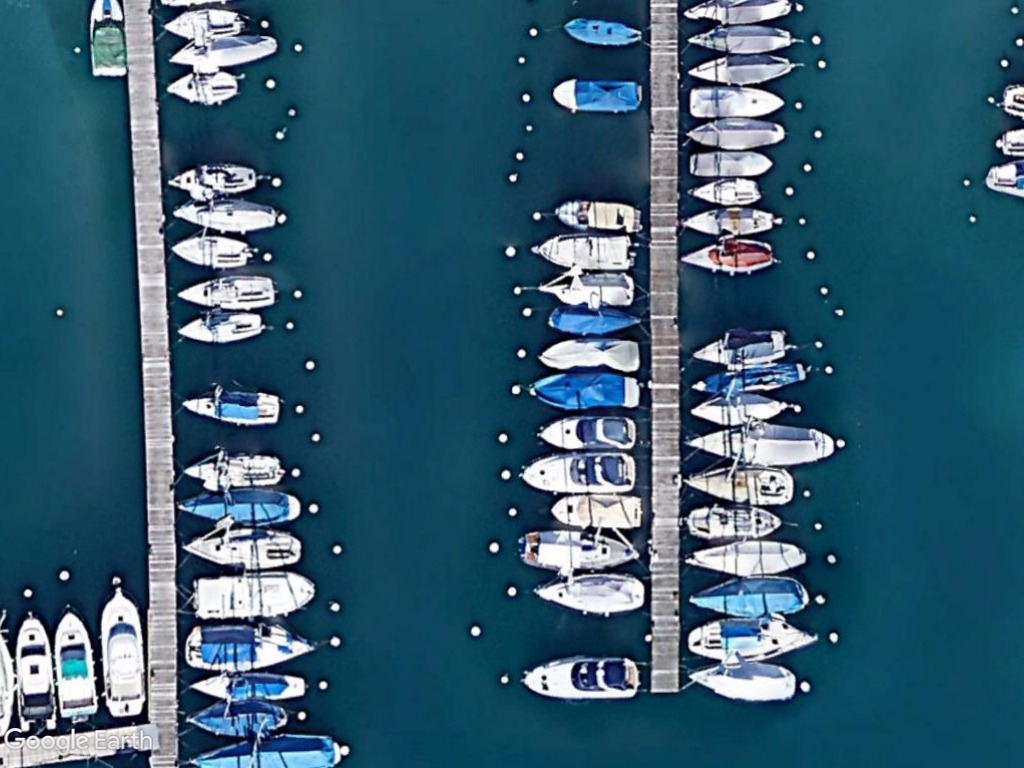boat: (92, 581, 152, 723), (182, 614, 316, 672), (182, 569, 321, 624), (686, 417, 841, 466), (516, 650, 646, 704), (677, 617, 823, 665), (510, 524, 646, 575), (178, 521, 308, 572), (7, 608, 58, 737), (680, 533, 815, 581), (686, 572, 813, 623), (47, 602, 98, 727), (525, 447, 642, 499), (176, 481, 306, 527), (522, 226, 643, 273), (680, 495, 789, 546), (530, 570, 648, 617), (684, 657, 802, 704), (164, 191, 279, 239), (532, 369, 648, 415), (686, 356, 813, 398), (681, 462, 797, 507), (535, 266, 647, 312), (529, 410, 641, 455), (183, 668, 312, 707), (181, 696, 291, 741), (176, 386, 288, 430), (538, 333, 645, 379), (684, 82, 793, 126), (686, 326, 789, 372), (175, 449, 288, 489), (678, 236, 784, 278), (683, 21, 799, 59), (684, 388, 793, 428), (548, 73, 651, 115), (678, 115, 788, 153), (542, 299, 646, 339), (172, 272, 279, 310), (686, 52, 807, 85), (551, 198, 645, 239), (164, 230, 258, 270), (162, 162, 263, 199), (548, 491, 649, 528), (556, 13, 649, 53), (679, 201, 776, 239), (687, 144, 775, 184), (156, 69, 246, 108), (687, 173, 767, 213), (172, 310, 266, 344), (156, 8, 246, 40)
